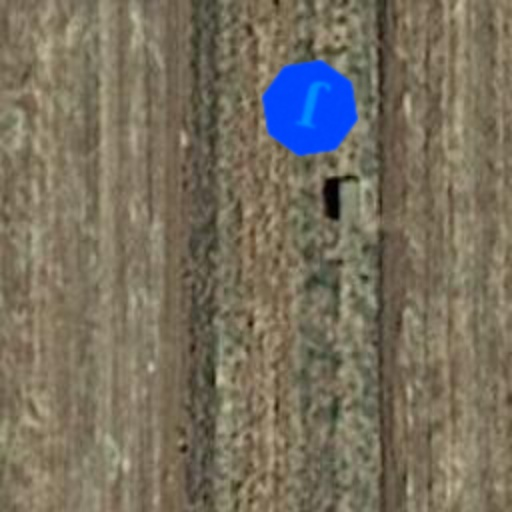octagon: (250, 48, 370, 168)
